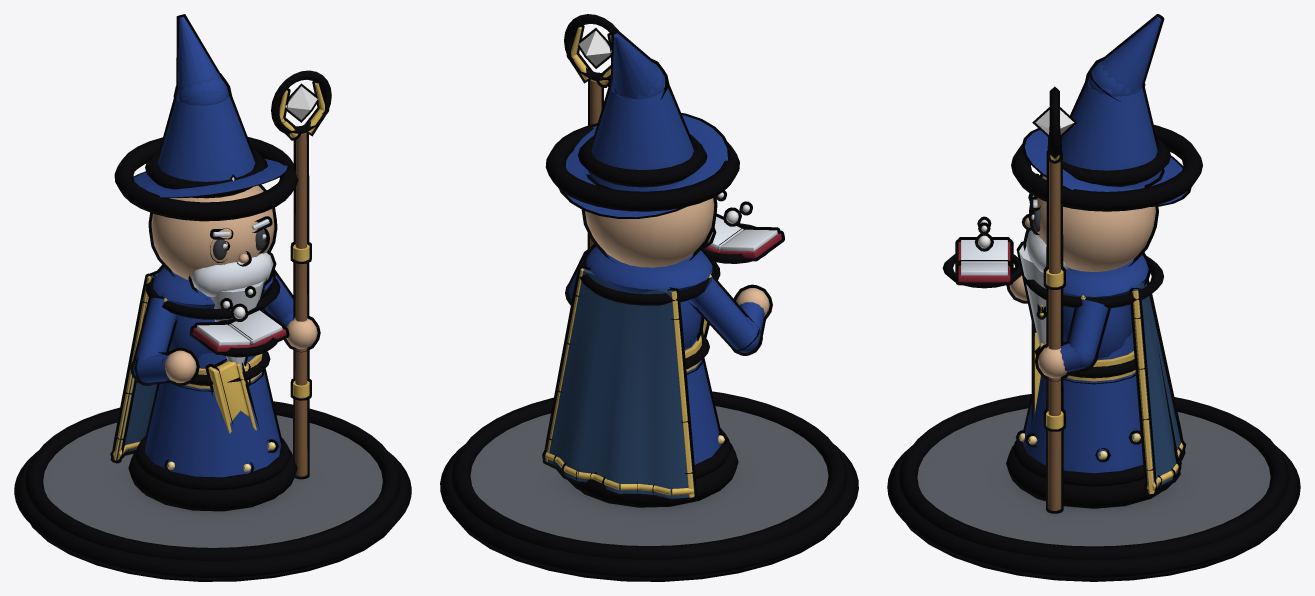
The model's file is archmage_s3.fbx.
3 renders of one model, left to right at view 1: azimuth 30°, elevation 25°; view 2: azimuth 150°, elevation 25°; view 3: azimuth 270°, elevation 25°, orthographic. The views are drawn at different scales.
Parts seen in each view (by area): view 1: archmage_s3; view 2: archmage_s3; view 3: archmage_s3.
Part boxes in pixels (<box>): archmage_s3: <box>14,14,411,581</box>; archmage_s3: <box>440,14,858,581</box>; archmage_s3: <box>887,14,1300,581</box>.
Size of the model in its own units: 1.58 by 2.04 by 1.58.
2 materials, 1 textured.
